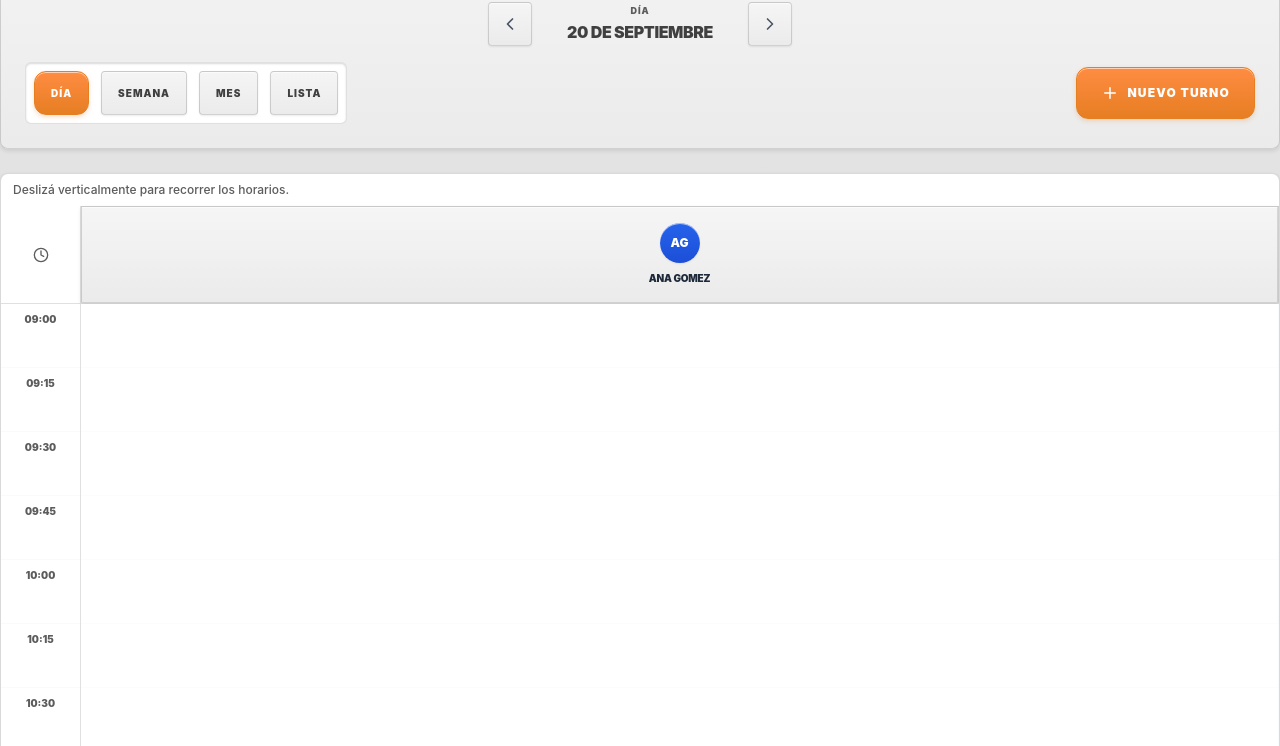
Scenario: CalendarContainer - vistas, orden y navegacion (F11c-08) › mes muestra cuatro eventos por dia y "+N eventos" con el resto
The width and height of the screenshot is (1280, 746).
Click the button "Mes".
click(229, 93)  # box [199,71,258,115]
(page scrolled)
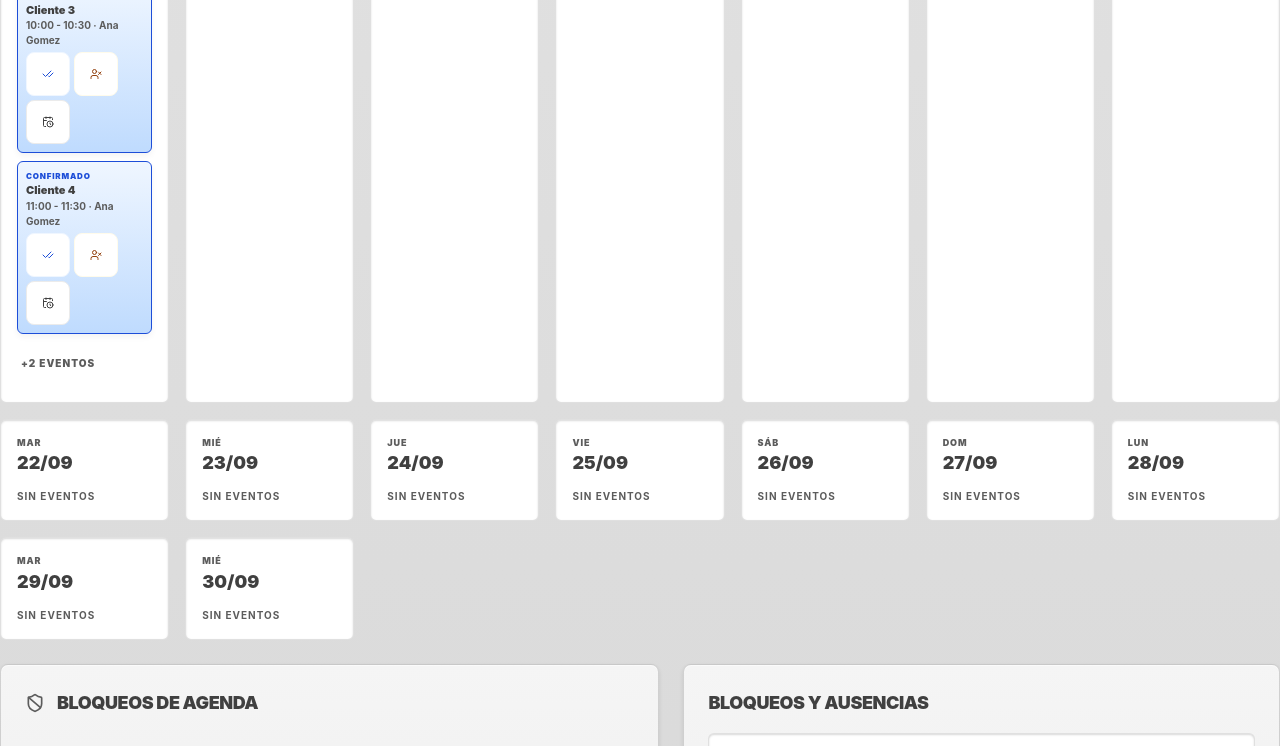
Click the button with aria-label "Mostrar 2 eventos más del 15/09".
click(58, 364)  # box [17,342,99,386]
(page scrolled)
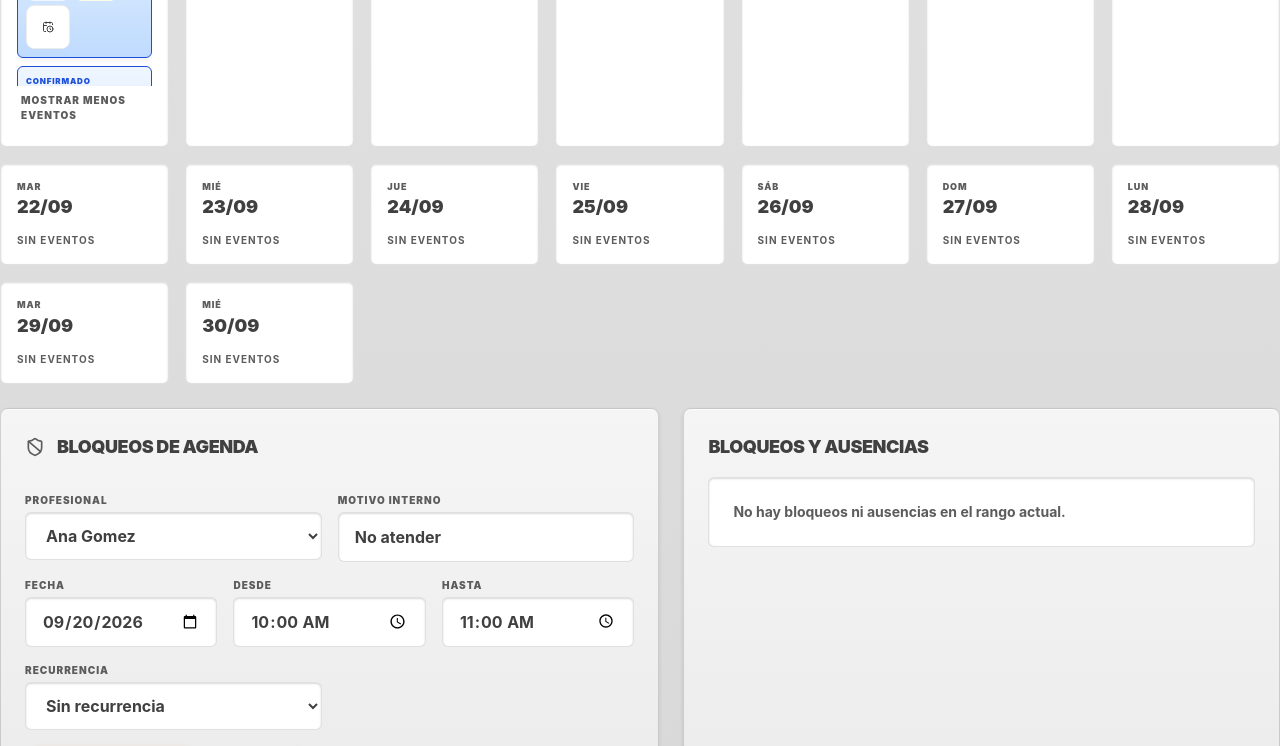
expect the button named "Mostrar 2 eventos más del 15/09" is expanded: met, box [17,86,152,130]
